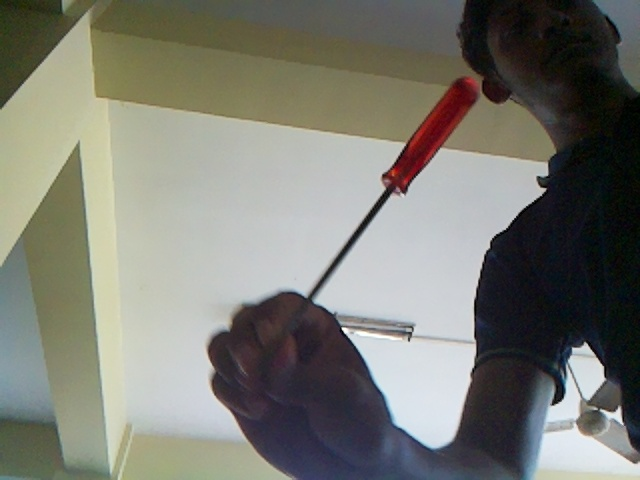redskrew: (302, 80, 476, 301)
